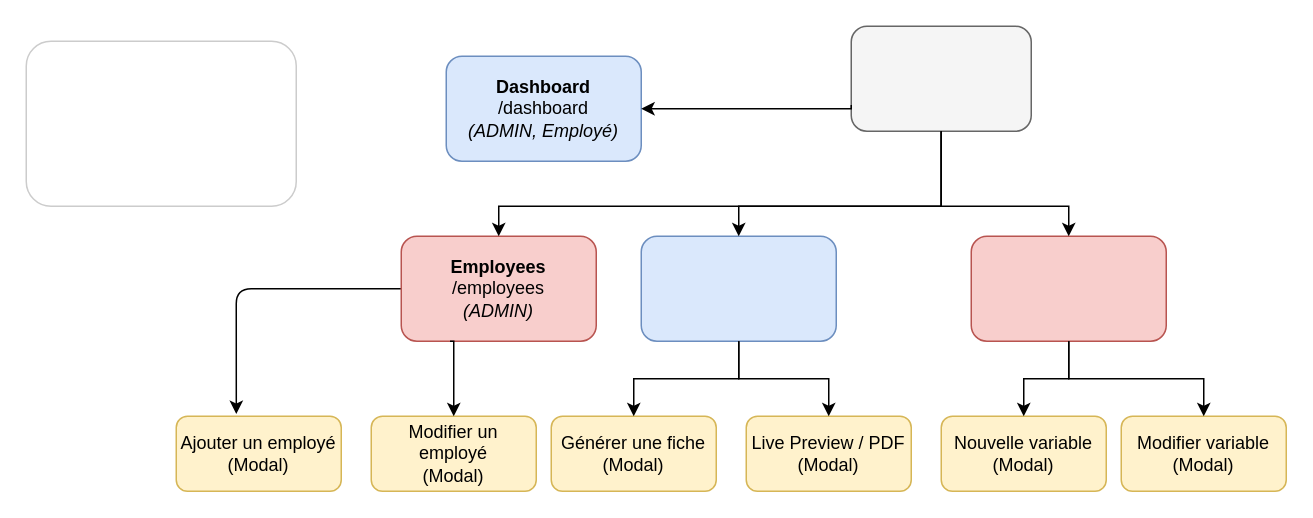
This 1313x518 diagram has some shape labels left out. Here are the shapes that lost their labels. From the top down, the centre of each, then its label:
point 940,78: Login /login (Tous)
point 160,123: Légende d'accès Accès Public (Tous) ADMIN & Employé ADMIN uniquement
point 738,288: Payslips /payslips (ADMIN, Employé)
point 1068,288: Settings /settings (ADMIN)
